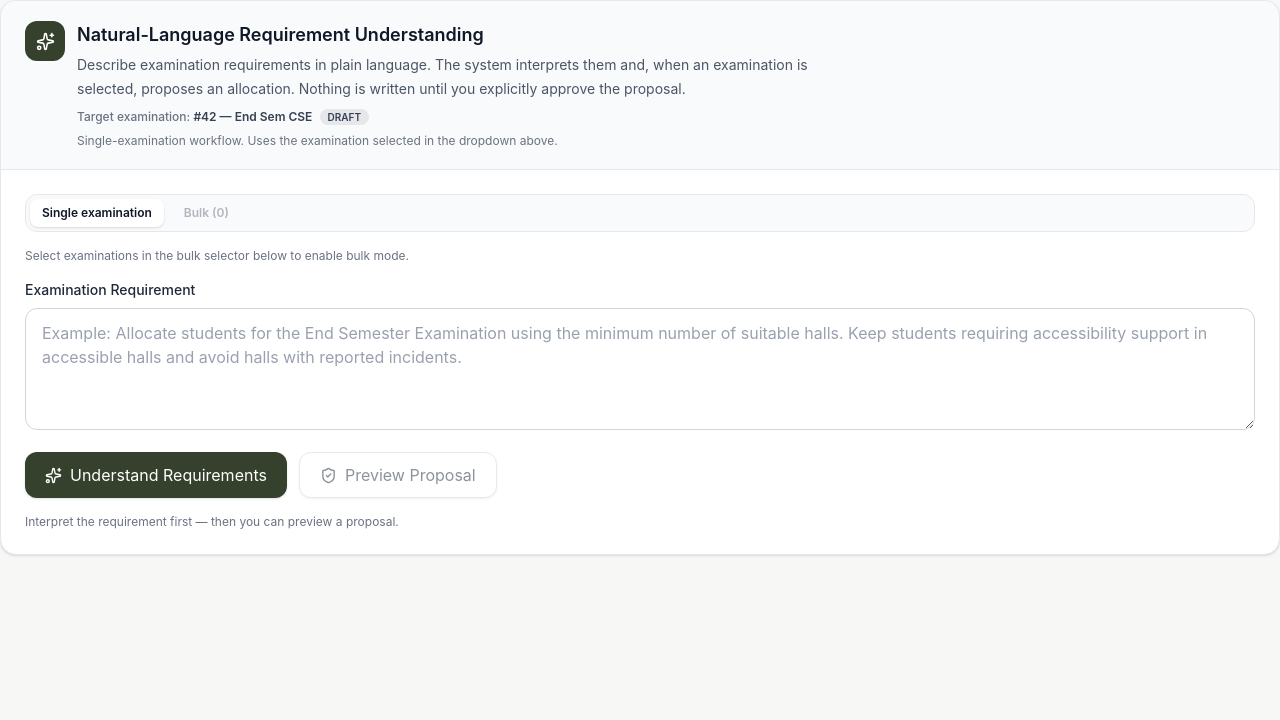
Test: Phase 7 — AI-assisted features › AI-01: understanding a supported requirement lists recognised options
Type "Use minimum number of halls, avoid timetable conflicts." into the text box labelled "Examination Requirement".
click(640, 369); type("Use minimum number of halls, avoid timetable conflicts.")  # box [25,308,1255,430]
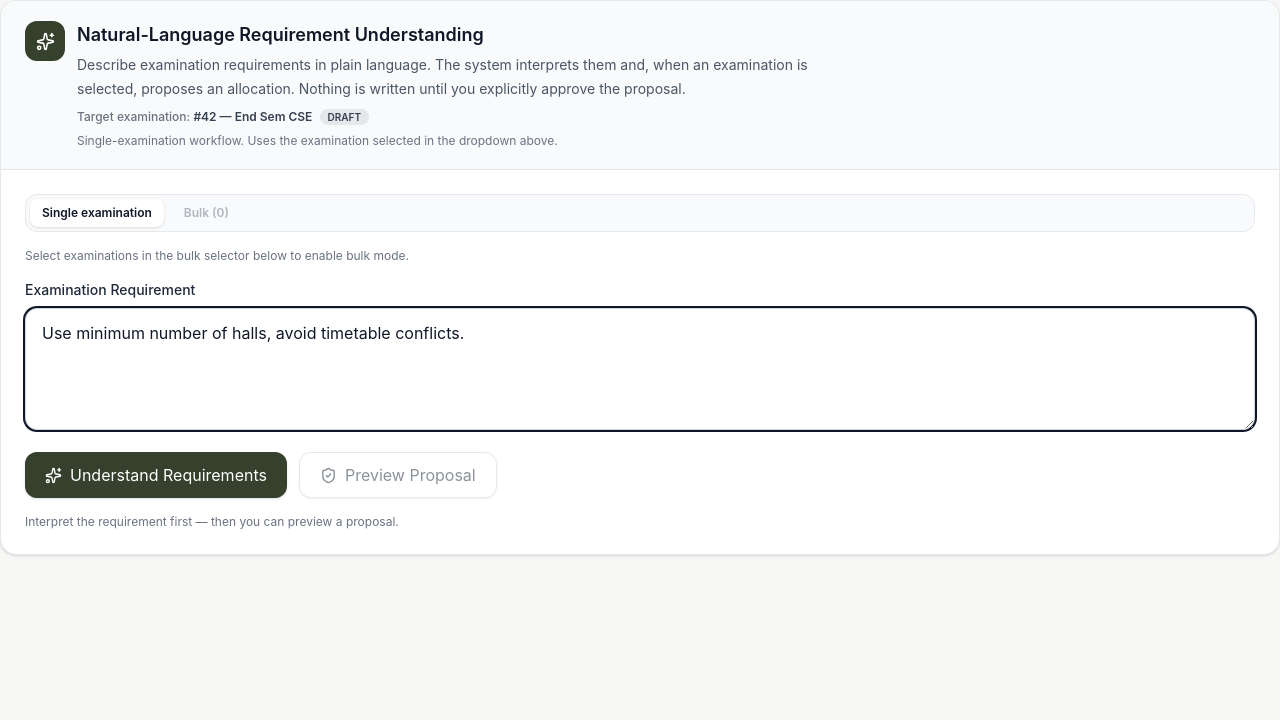
Click the button "Understand Requirements".
click(156, 475)  # box [25,452,287,498]
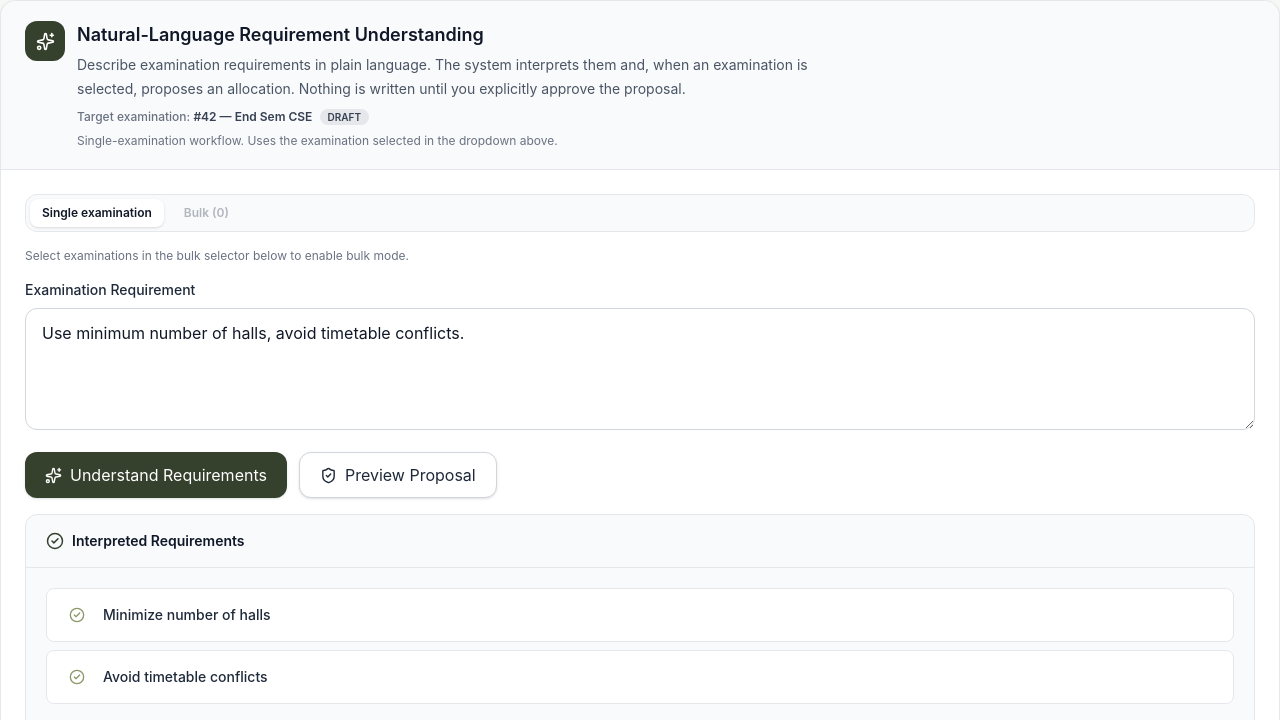
Now the text "Minimize number of halls" is shown, box [103,605,270,625]
Now the text "Avoid timetable conflicts" is shown, box [103,667,268,687]
